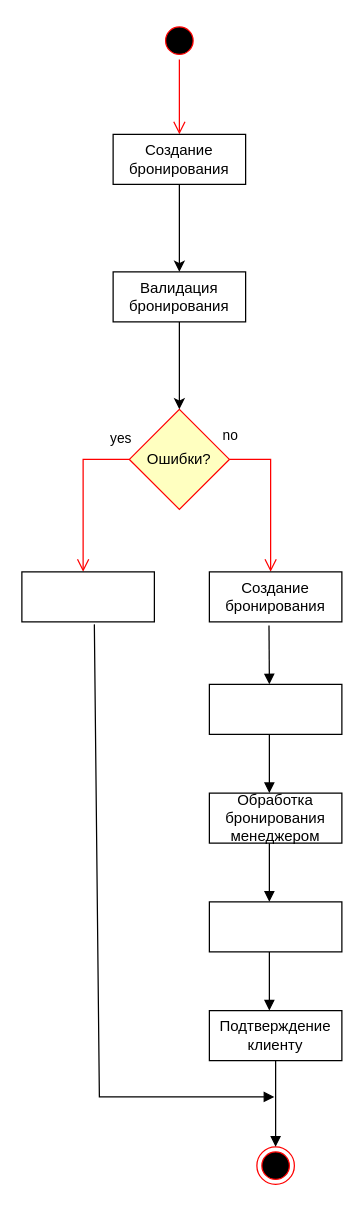
This 364x1206 diagram has some shape labels left out. The centre of each missing label's shape, as x and y in pixels:
Вывести сообщение об ошибке: the point at 87,596
Отправка бронирования менеджеру: the point at 275,708
Подтверждение бронирования: the point at 275,926
